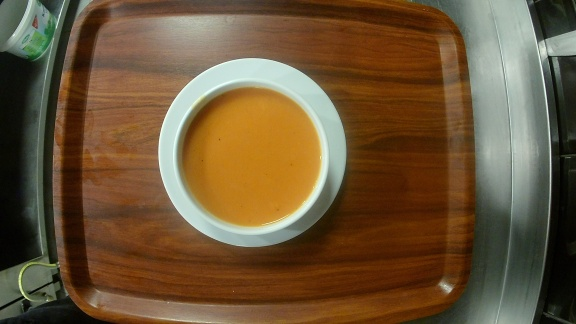domatescorba: (156, 57, 349, 248)
